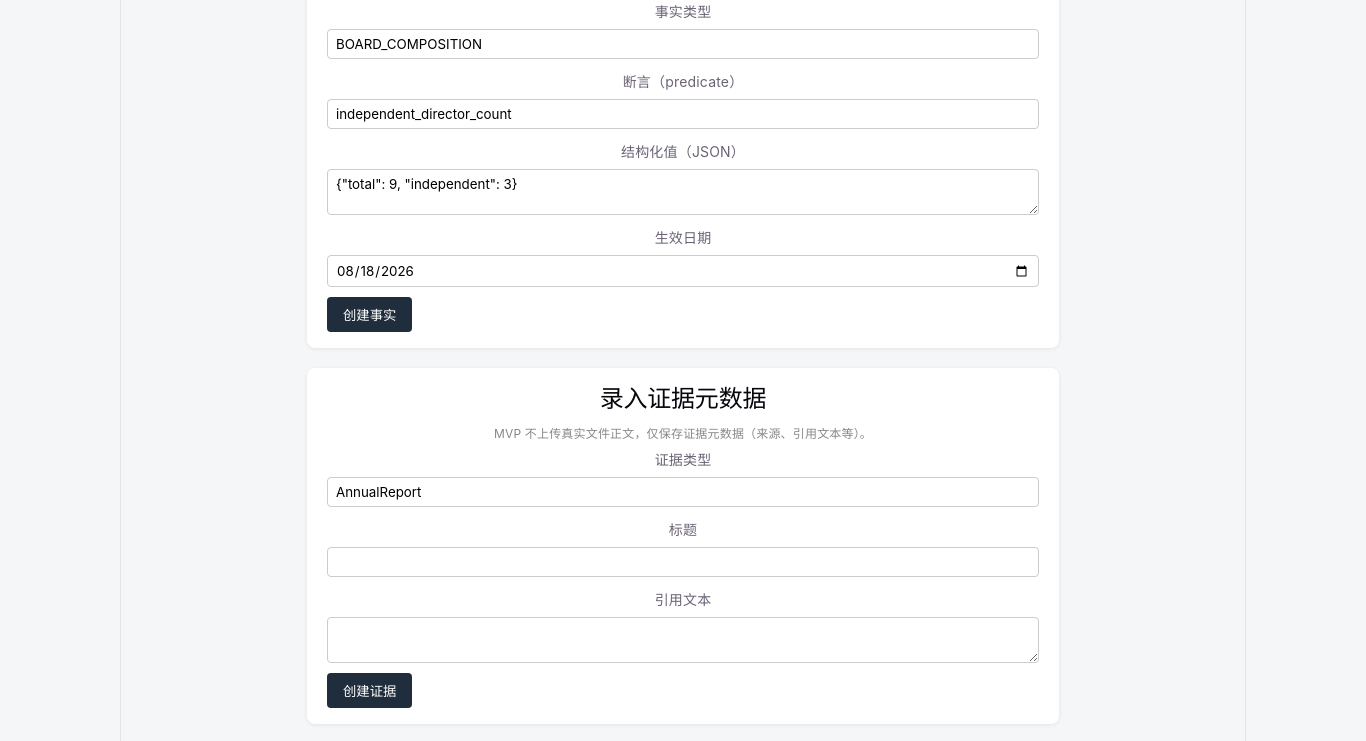
FactEvidenceView › links the freshly created evidence to a fact and refreshes its detail
This screenshot has width=1366, height=741.
(page scrolled)
// Create the evidence first so the link button becomes available.
Type "2025 年年报" into the field labelled "标题" at (683, 562), box [327, 547, 1039, 577]
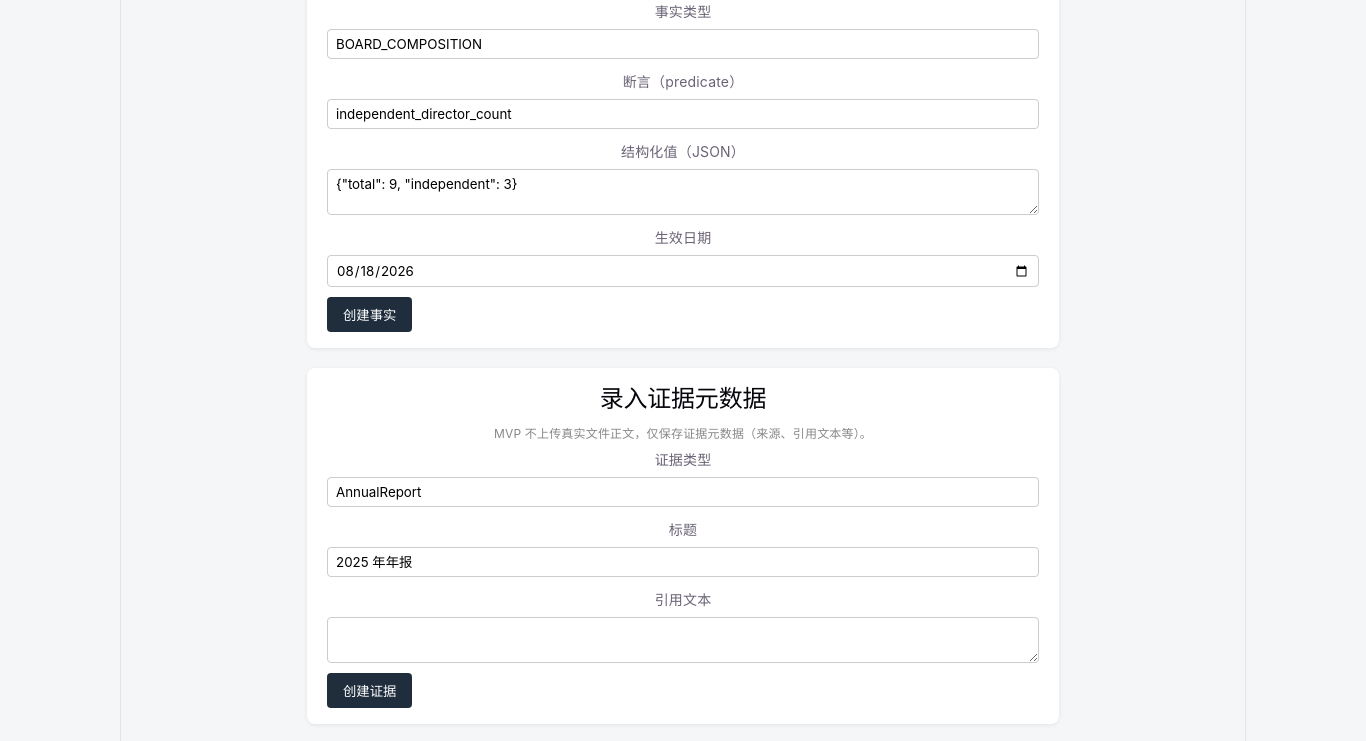
Submit the form "证据类型 标题 引用文本 创建证据", box [327, 447, 1039, 708]
(page scrolled)
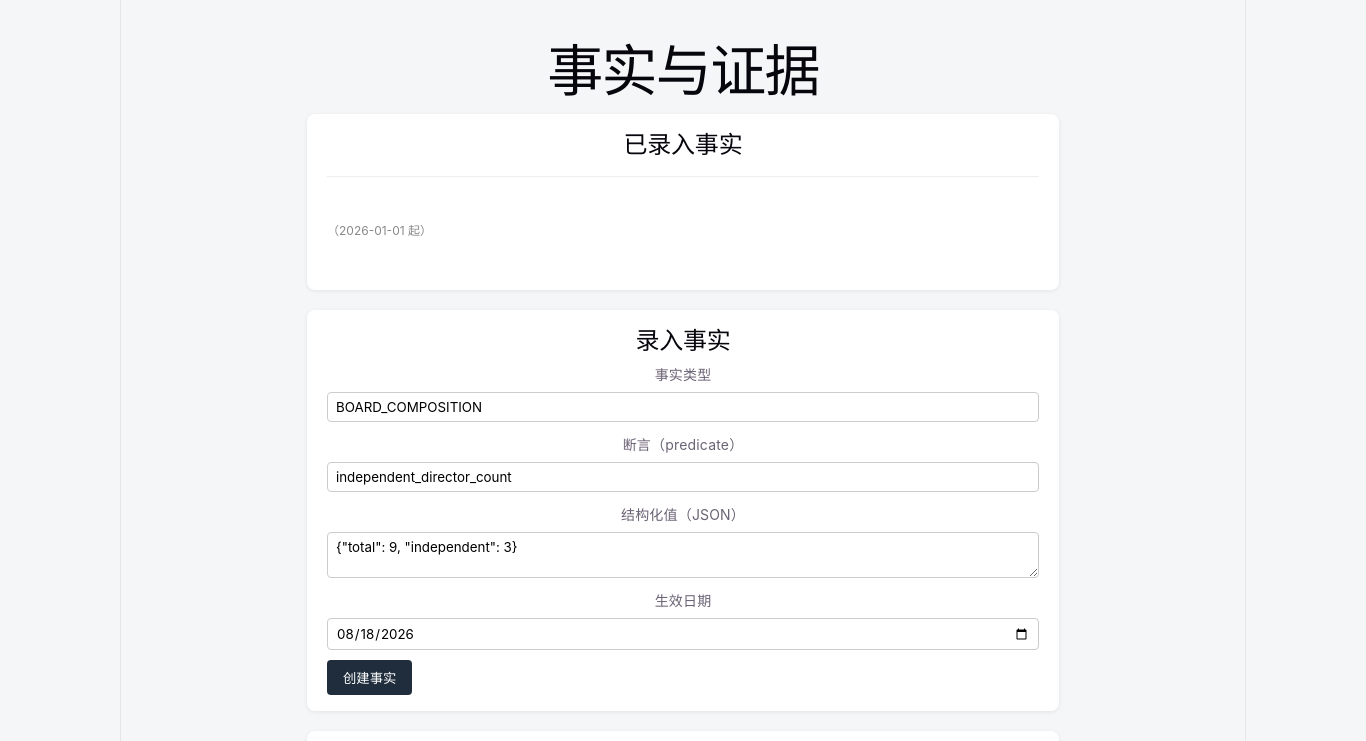
// Expand the fact detail — no evidence linked yet.
Click the button with class "fact-summary" at (677, 202), box [327, 185, 1039, 248]
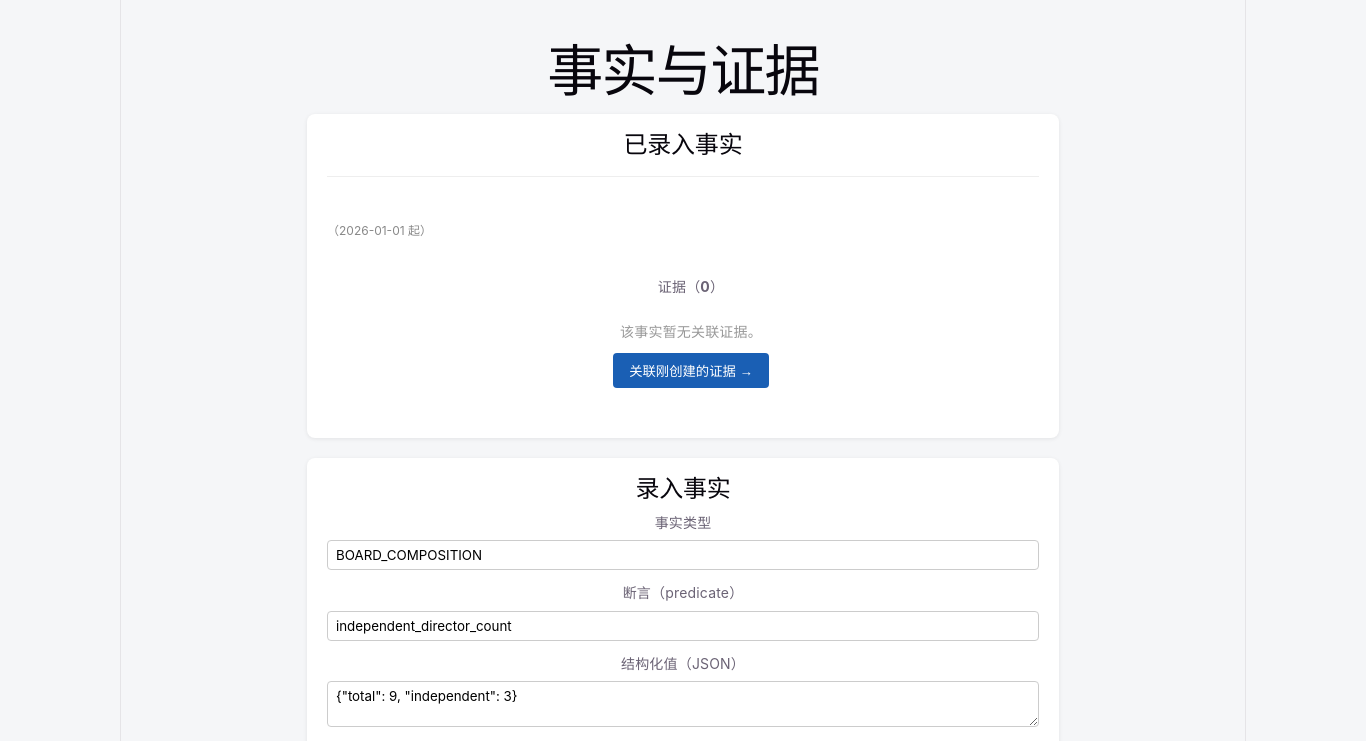
Expected: the text "该事实暂无关联证据。" is shown, [620, 323, 762, 340]
Click the button with class "link-btn" at (691, 370), box [613, 353, 769, 388]
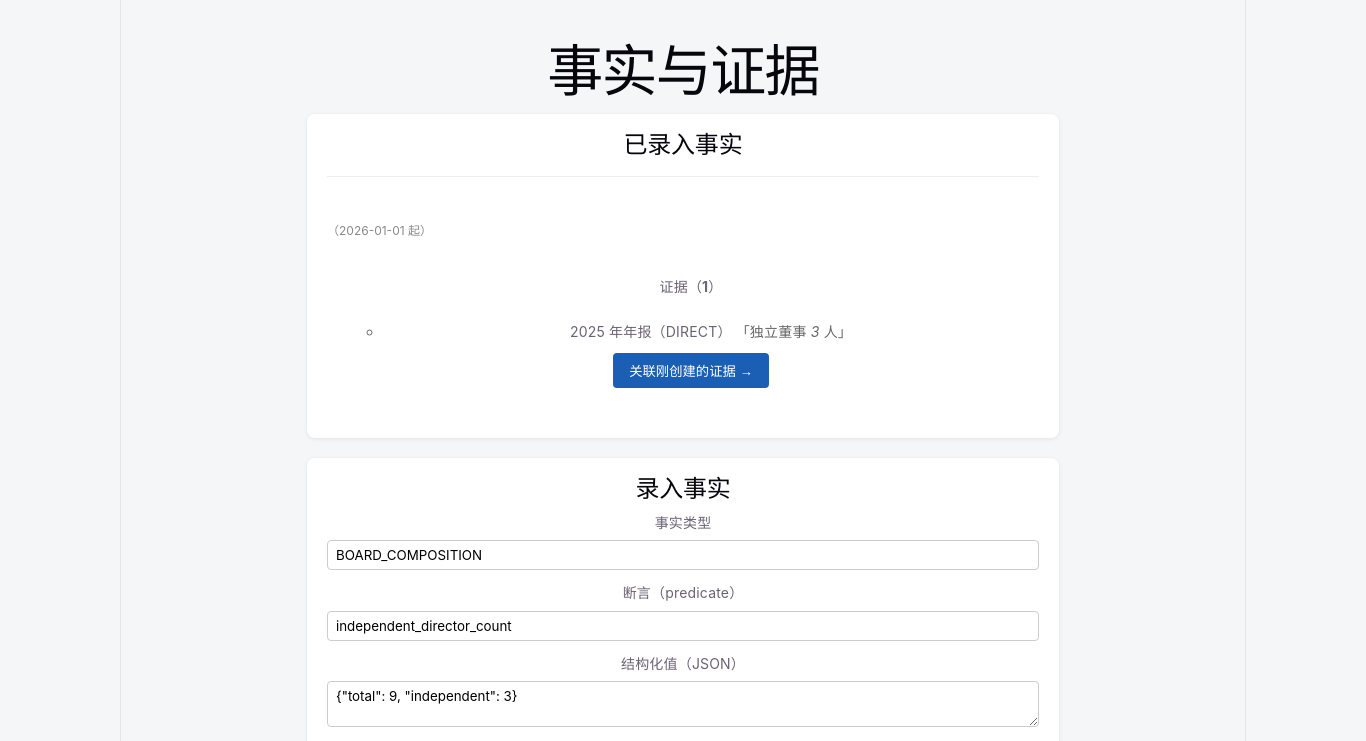
Expected: the text "2025 年年报（DIRECT）" is shown, [570, 323, 736, 340]
Expected: the text "「独立董事 3 人」" is shown, [736, 323, 852, 340]
